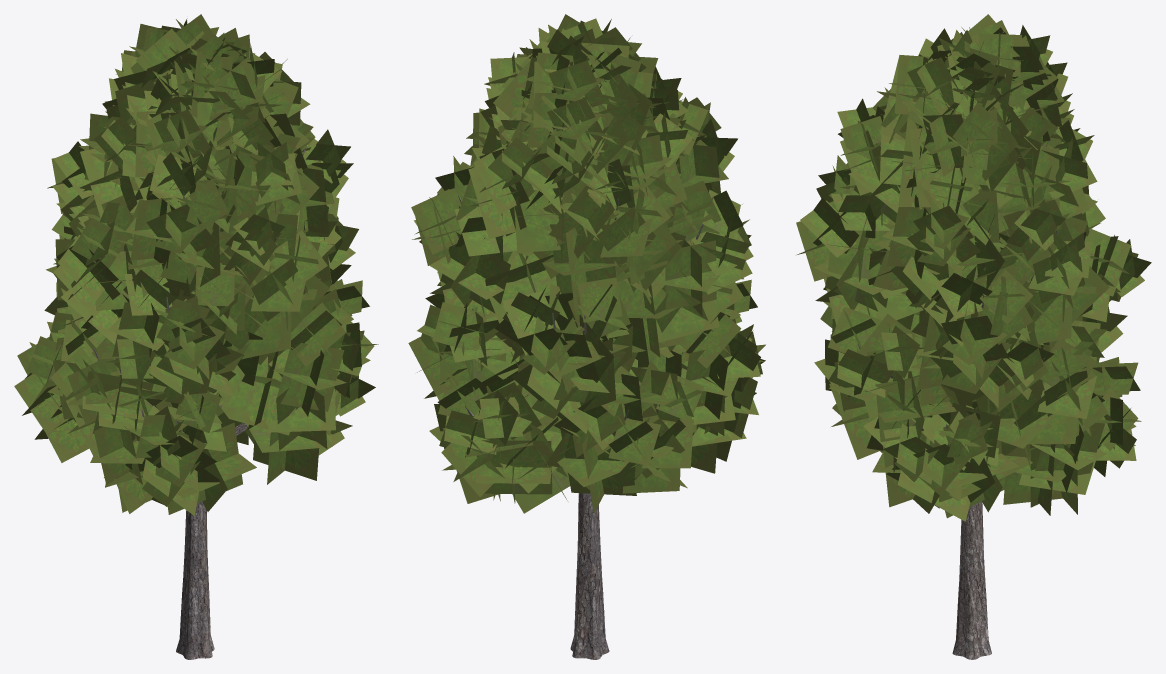
File: tree2.glb
3 renders of one model, left to right at view 1: azimuth 30°, elevation 25°; view 2: azimuth 150°, elevation 25°; view 3: azimuth 270°, elevation 25°, orthographic.
Visible parts, largest first — view 1: SM_Tree_02; view 2: SM_Tree_02; view 3: SM_Tree_02.
Boxes of the visible parts, box(x1,y1,x2,y2) form: SM_Tree_02: box(14, 14, 378, 659); SM_Tree_02: box(408, 14, 765, 659); SM_Tree_02: box(796, 14, 1151, 659).
Size of the model in its own units: 0.2683 by 0.5046 by 0.2601.
Materials: 2 (2 with a texture image).
